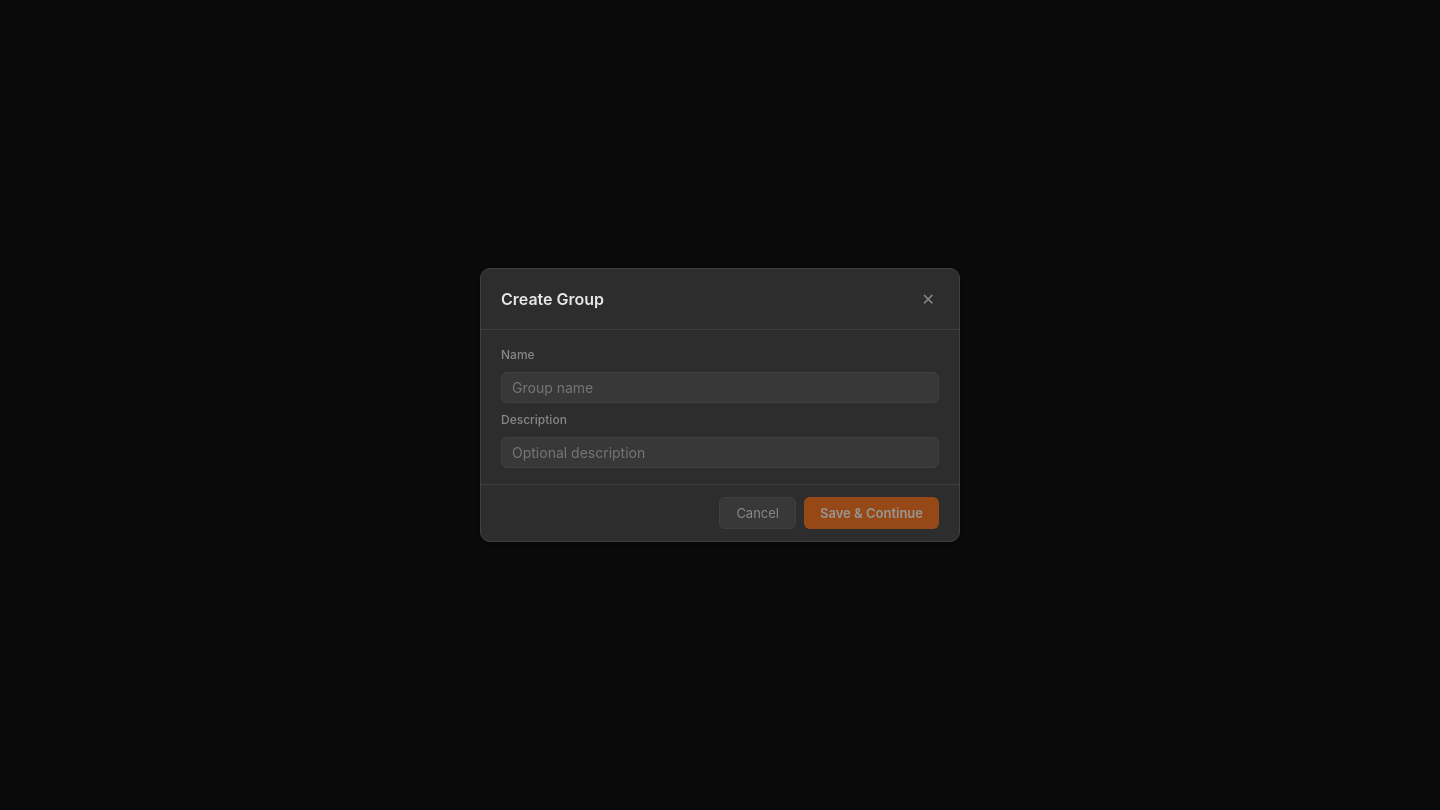
it: GroupEditor › after successful create, Add Controllers section becomes visible
Type "New Group" into the field with placeholder "Group name" at [720, 388], box 501,372 -> 939,403
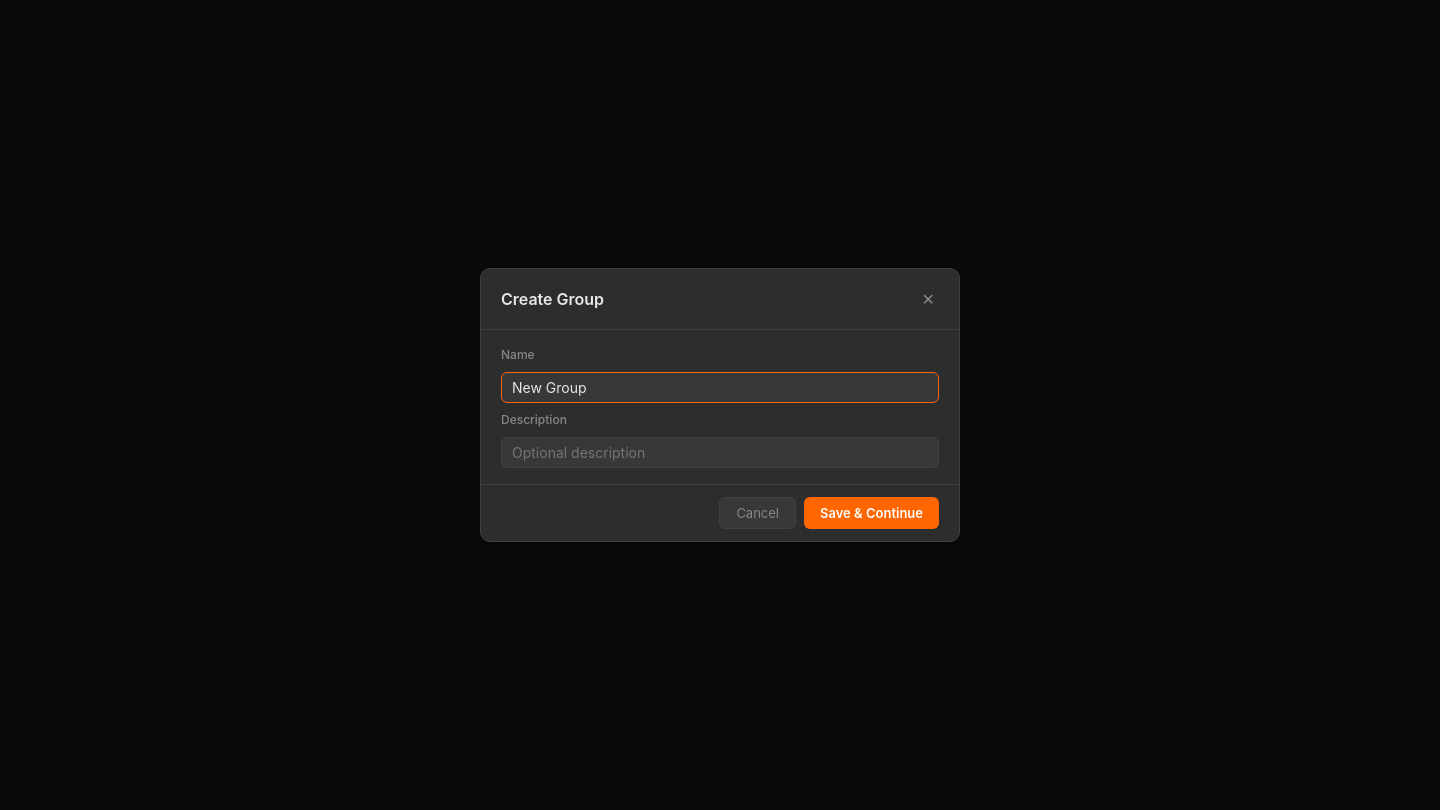
Click the button "Save & Continue" at [872, 513], box 804,497 -> 939,529
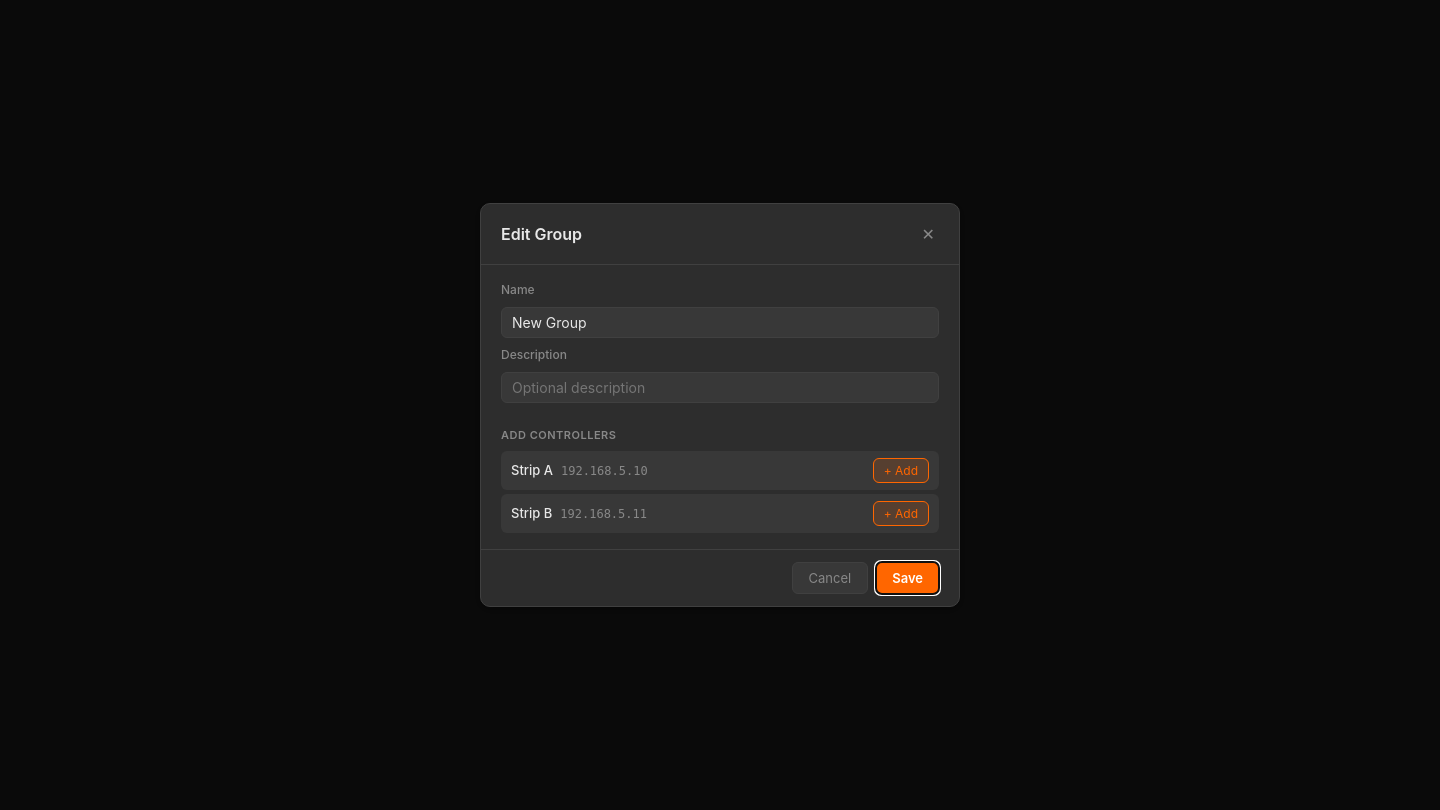
Check: the heading "Add Controllers" is shown, box 501,428 -> 616,442
